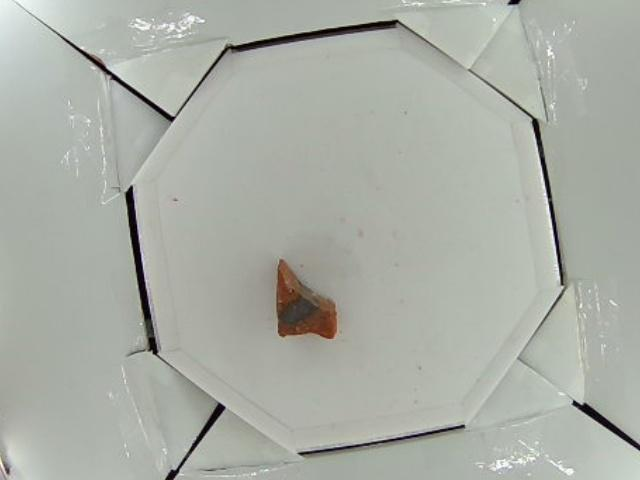Brisk: (277, 261, 338, 342)
